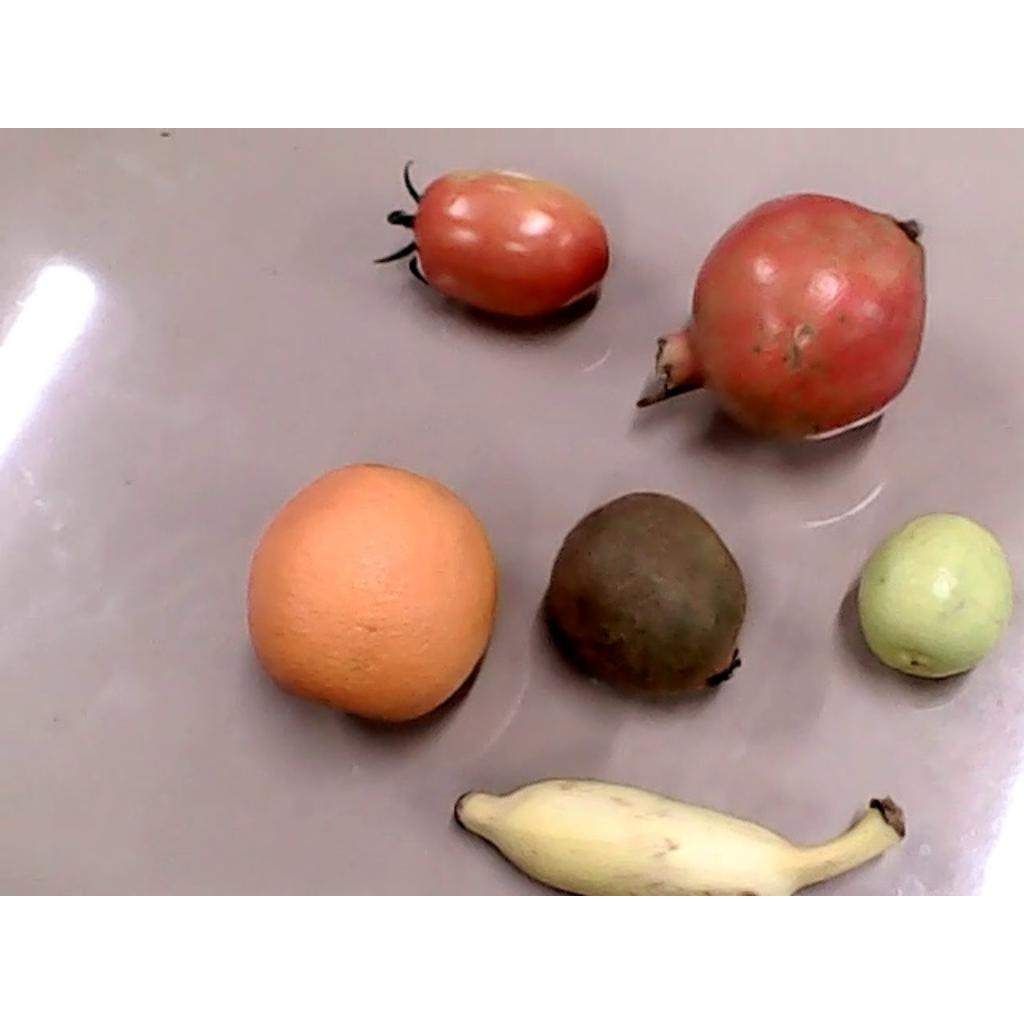kiwi: (548, 490, 747, 694)
lemon: (855, 513, 1013, 679)
orange: (244, 465, 496, 721)
pomegranate: (637, 193, 925, 441)
tomato: (370, 159, 610, 318)
